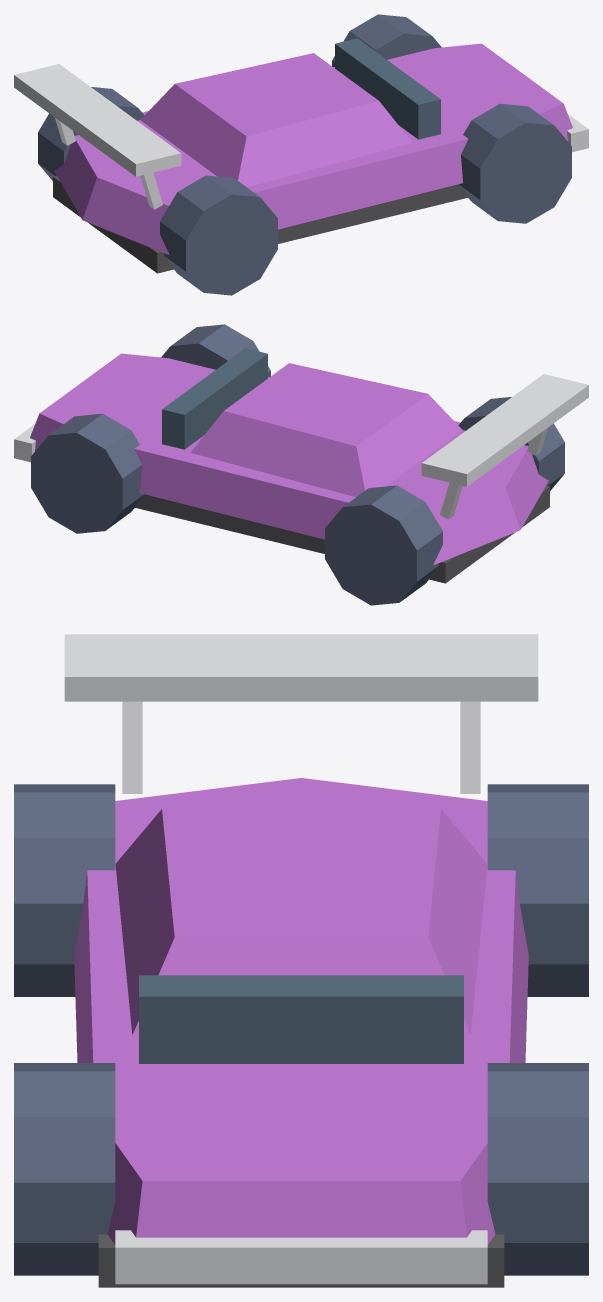
Rendered from car_street.glb.
3 renders of one model, top to bottom at view 1: azimuth 30°, elevation 25°; view 2: azimuth 150°, elevation 25°; view 3: azimuth 270°, elevation 25°, orthographic. The views are drawn at different scales.
Bounding box in the file's own units: 0.309 × 0.09 × 0.17.
